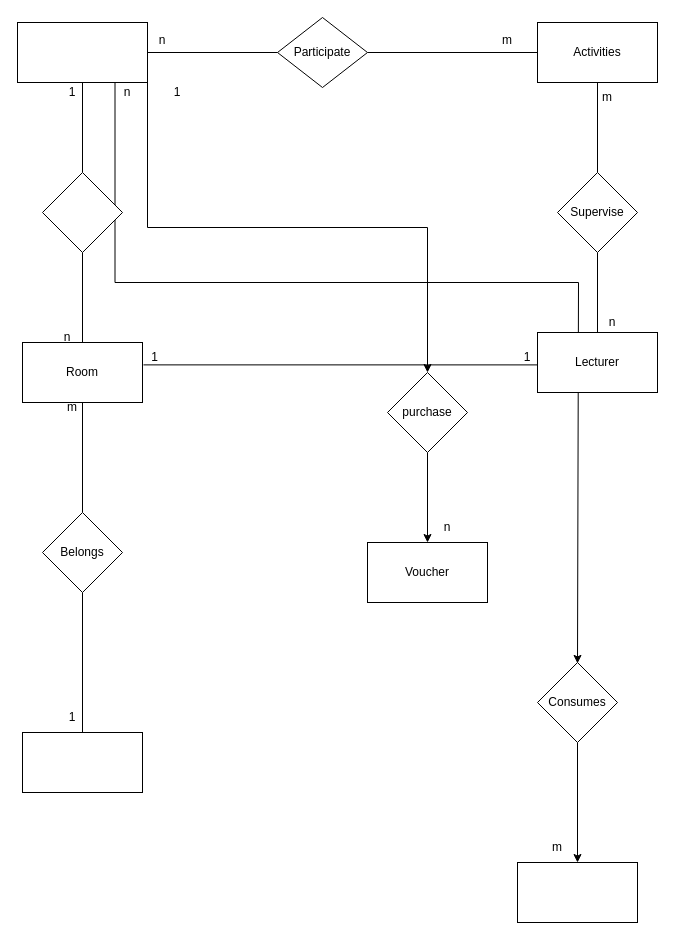
Some shapes in this 675 by 940 pixel diagram are drawn without their labels. Each missing label, with the centre of its shape:
"assigned" goes at point 82,212.
"Building" goes at point 82,762.
"Drink" goes at point 577,892.
"Student" goes at point 82,52.
